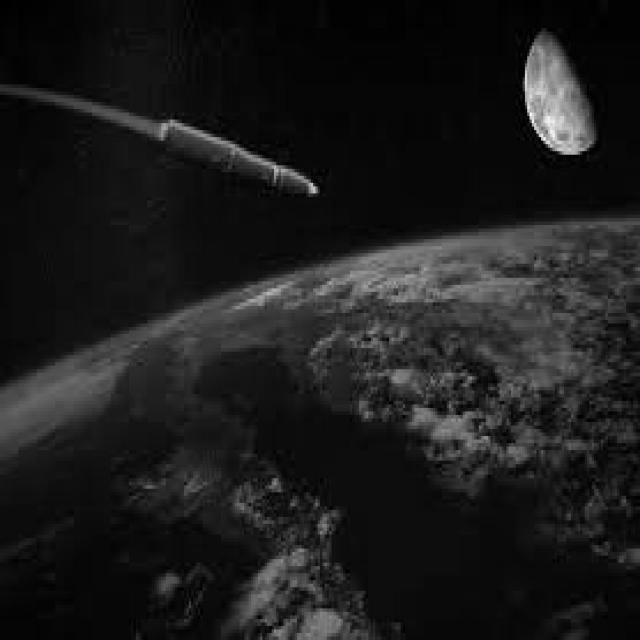Missile: (162, 116, 327, 211)
